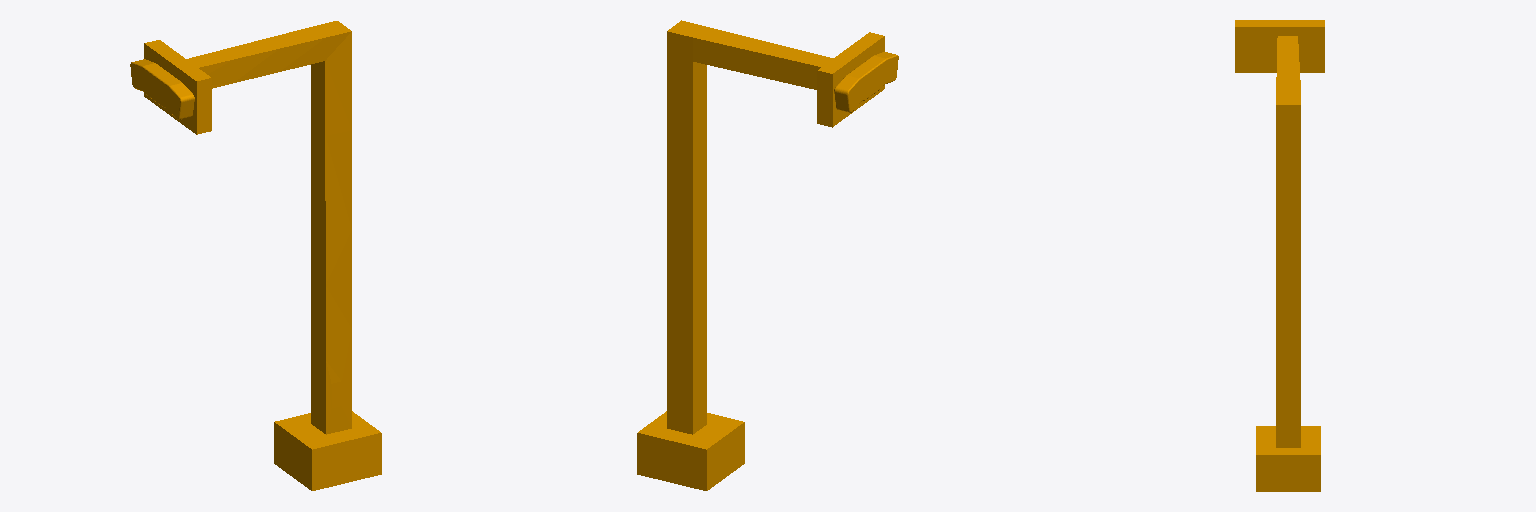
URDF robot description (converyor):
<?xml version="0.0" ?>
<robot name="converyor">
  <link name="converyorLink">
    <inertial>
      <origin rpy="0 0 0" xyz="0 0 0"/>
       <mass value=".0"/>
       <inertia ixx="0" ixy="0" ixz="0" iyy="0" iyz="0" izz="0"/>
    </inertial>
    <visual>
      <origin rpy="0 0 0" xyz="0 0 0"/>
      <geometry>
				<mesh filename="camera.obj" scale="1 1 1"/>
      </geometry>
    </visual>

  </link>
</robot>

--- Render facts (derived) ---
The picture shows the robot from 3 angles, left to right: view 1: azimuth 30°, elevation 25°; view 2: azimuth 150°, elevation 25°; view 3: azimuth 270°, elevation 25°; orthographic projection.
Robot: converyor — 1 links, 0 joints (none); root link converyorLink; default pose: all joints at 0.
Visible links, largest first — view 1: converyorLink; view 2: converyorLink; view 3: converyorLink.
Boxes of the visible links, x1=… form: converyorLink: x1=130, y1=21, x2=381, y2=490; converyorLink: x1=637, y1=20, x2=898, y2=490; converyorLink: x1=1235, y1=20, x2=1324, y2=491.
Bounding box of the posed robot: 0.6259 × 0.2668 × 1.27 m (x, y, z).
1 mesh visuals loaded from 1 distinct referenced files (1 OBJ).